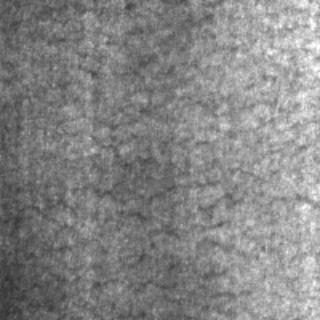crazing: (14, 154, 318, 288)
